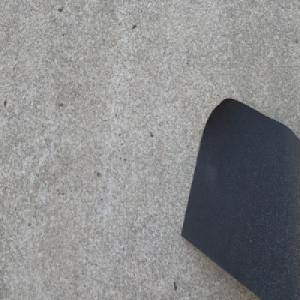PaintChip: (180, 93, 300, 300)
